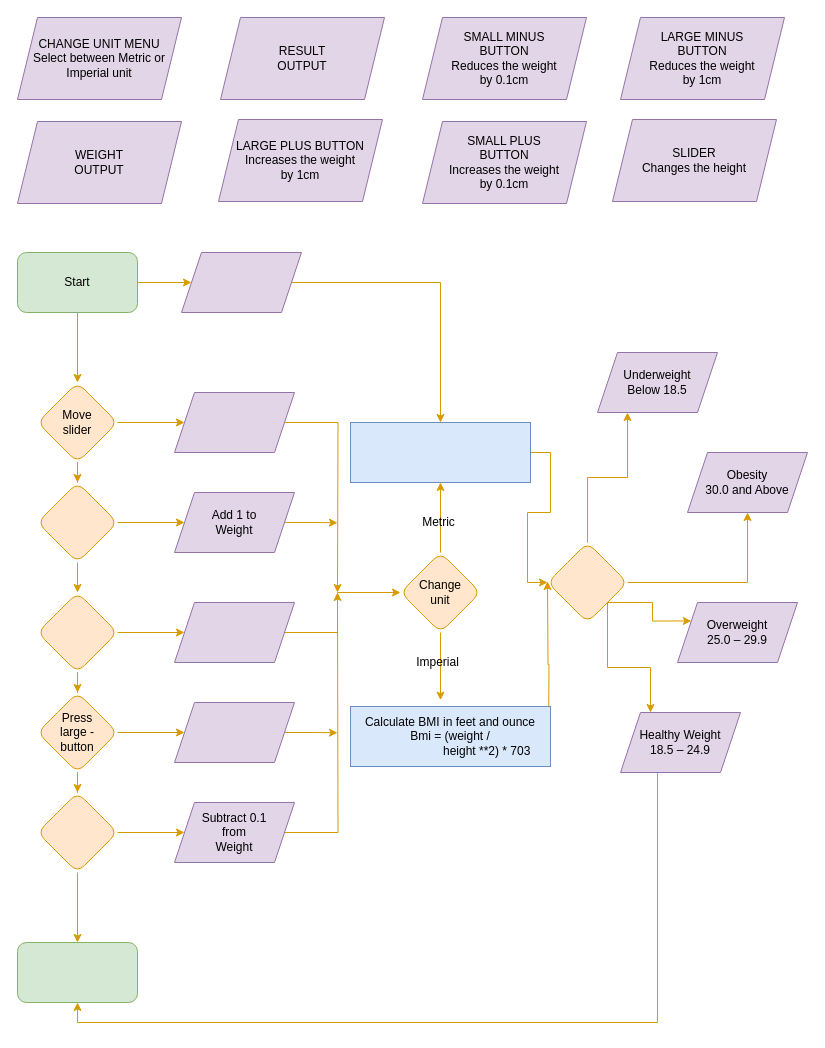
Image size: 825x1048. Some labels were removed from this diagram. The box of each missing label's shape, as (x1, y1, x2, y2) in pixels:
Add 0.1 to Weight: (174, 602, 294, 662)
BMI: (546, 542, 628, 622)
Calculate BMI in kg/m**2 Bmi = weight / height **2: (350, 422, 530, 482)
Change Height: (174, 392, 294, 452)
Default output: (180, 252, 302, 312)
End: (16, 942, 138, 1002)
Press large + button: (36, 482, 118, 562)
Press small + button: (36, 592, 118, 672)
Press small - button: (36, 792, 118, 872)
Subtract 1 from Weight: (174, 702, 294, 762)
